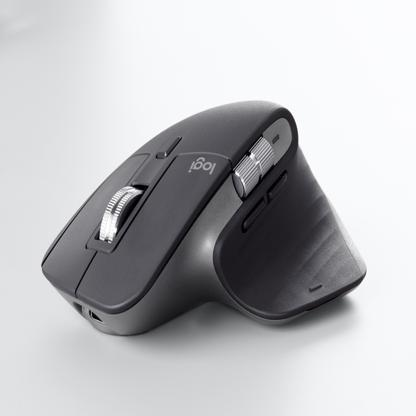not trash: (42, 97, 372, 341)
